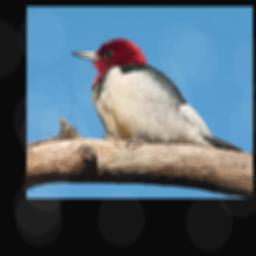Woodpecker: (71, 39, 246, 152)
